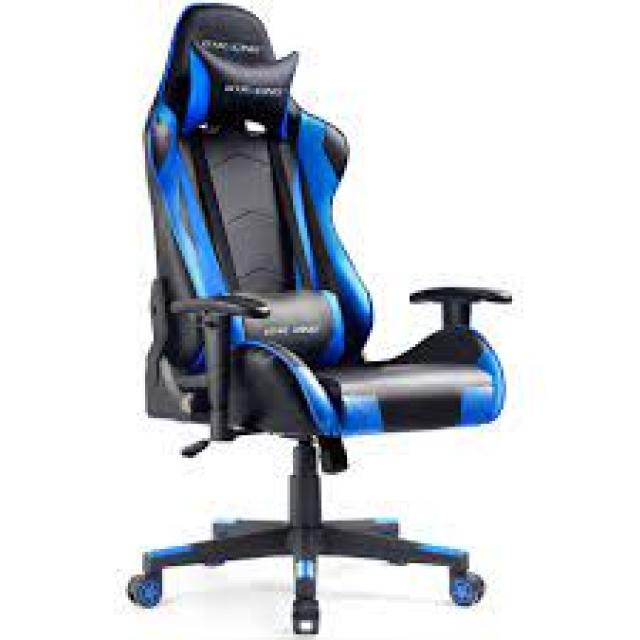chair: (36, 0, 558, 640)
